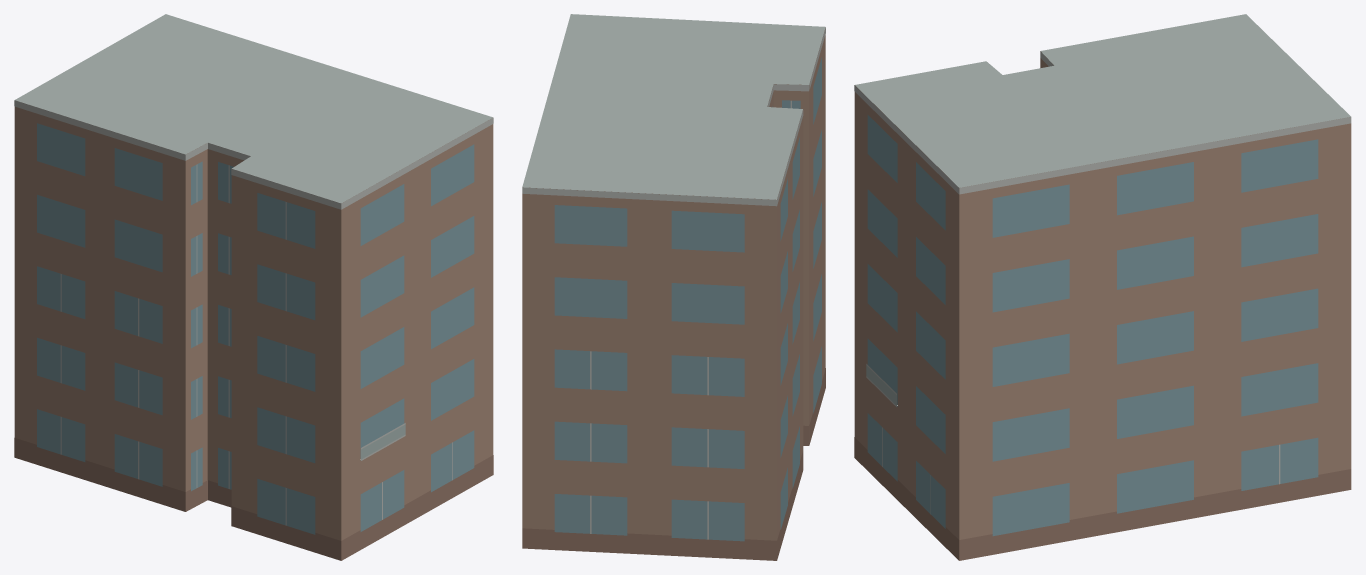
The model's file is survey-upis-32947022.glb.
3 renders of one model, left to right at view 1: azimuth 30°, elevation 25°; view 2: azimuth 150°, elevation 25°; view 3: azimuth 270°, elevation 25°, orthographic. The views are drawn at different scales.
Parts seen in each view (by area): view 1: survey-upis-32947022.tmp; view 2: survey-upis-32947022.tmp; view 3: survey-upis-32947022.tmp.
Boxes of the visible parts, <box> form: survey-upis-32947022.tmp: <box>14,14,493,560</box>; survey-upis-32947022.tmp: <box>522,14,825,560</box>; survey-upis-32947022.tmp: <box>854,14,1351,560</box>.
Bounding box in the file's own units: 13.81 × 13.8 × 16.67.
